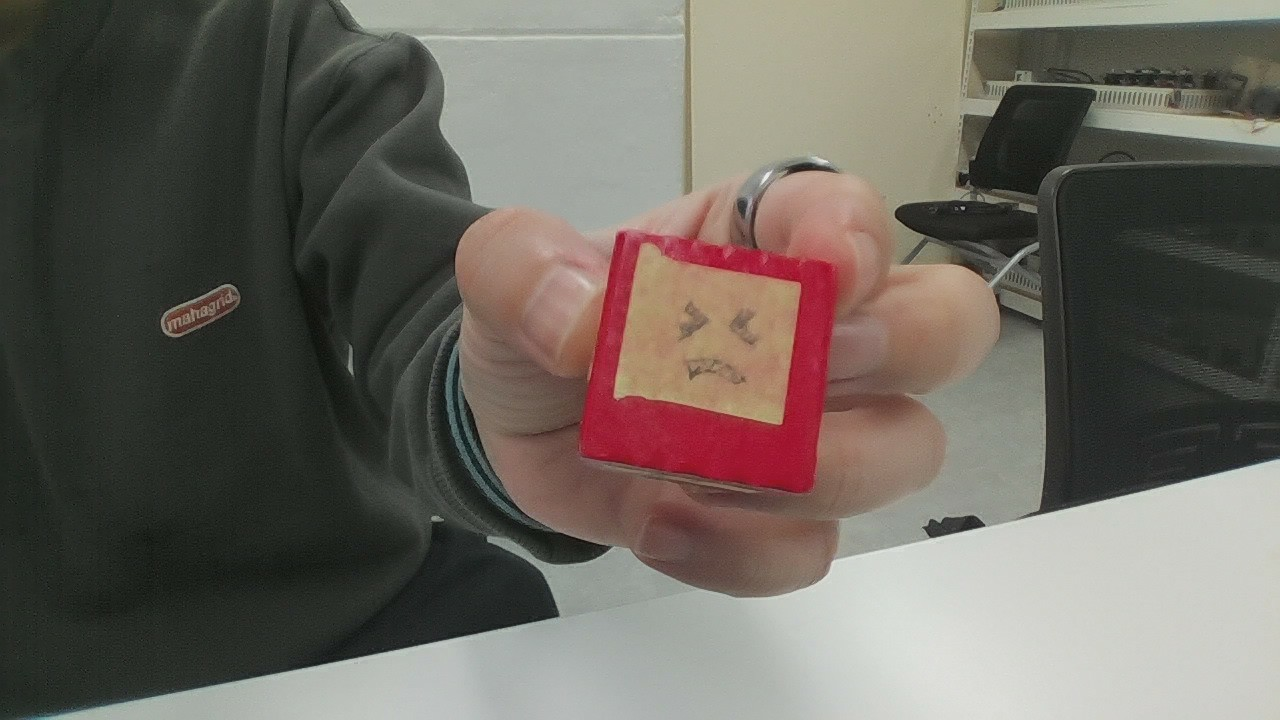Error: (607, 209, 861, 473)
